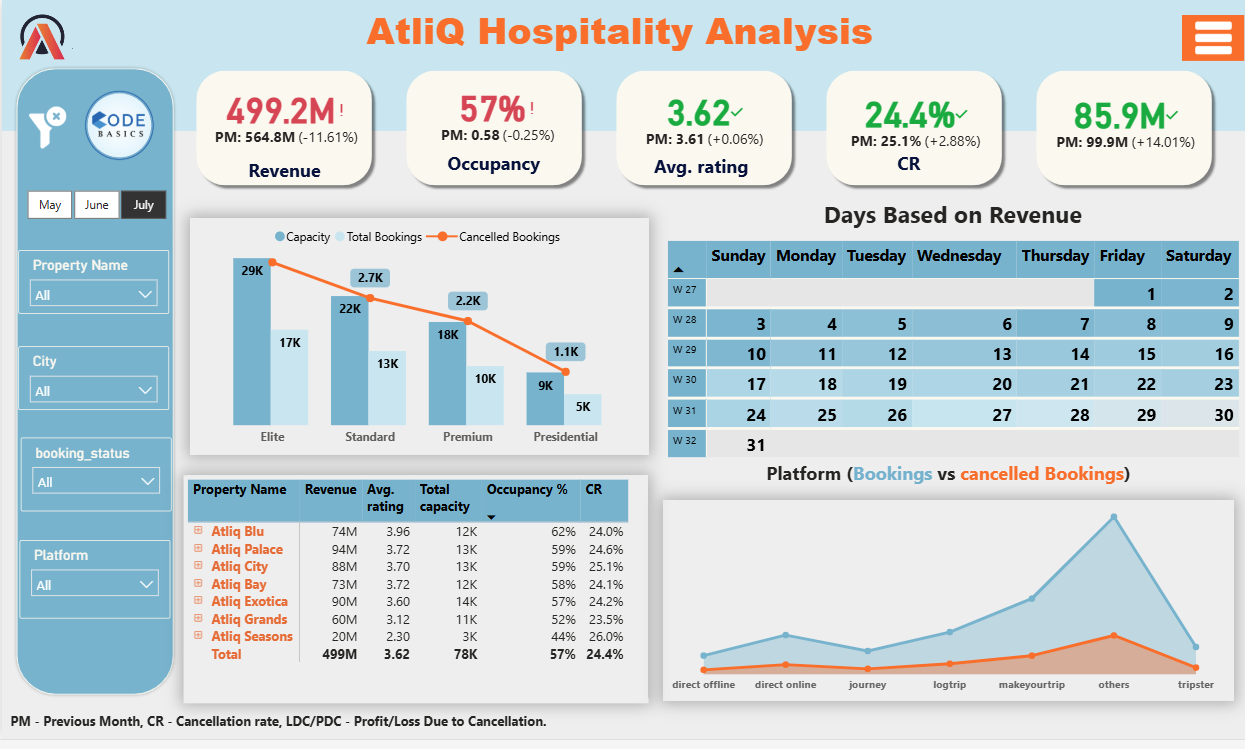

What the dashboard file says about the page in this screenshot:
{"tool":"powerbi","page":{"name":"Monthly","canvas":[1280,760],"ordinal":1},"visuals":[{"type":"group","id":"g1","title":"visuals","box":[0,0,1280,760.7],"z":0},{"type":"shape","title":"blue menu","box":[999.8,0,280.2,759.3],"z":0,"group":"g2"},{"type":"actionButton","title":"Monthly analysis","box":[1019,217.5,241.7,39.8],"z":0,"group":"g3"},{"type":"textbox","box":[0,727.8,1063.8,32.8],"z":0,"group":"g1"},{"type":"shape","title":"organge transprent","box":[0,0,999.8,759.3],"z":1000,"group":"g2"},{"type":"shape","box":[0,0,1280,134.4],"z":1000,"group":"g1"},{"type":"actionButton","title":"Overall analysis","box":[1021,83.3,242.4,39.8],"z":1000,"group":"g3"},{"type":"image","box":[20.1,101.8,52.8,59.1],"z":1000},{"type":"group","id":"g2","title":"Navig. menu","box":[0,0,1280,759.3],"z":2000},{"type":"image","title":"arrow","box":[956.2,3.8,68.2,66.3],"z":2000,"group":"g2"},{"type":"shape","box":[840.8,65.9,194.5,131.9],"z":2000,"group":"g1"},{"type":"actionButton","title":"Monthly analysis","box":[1021,147.7,242.4,39.8],"z":2000,"group":"g3"},{"type":"textbox","title":"page navg","box":[1011.1,11.4,255.6,49.2],"z":3000,"group":"g2"},{"type":"shape","box":[624.8,65.9,194.5,131.9],"z":3000,"group":"g1"},{"type":"shape","box":[192.9,65.9,194.5,131.9],"z":4000,"group":"g1"},{"type":"group","id":"g3","title":"Navg. buttons","box":[1019,83.3,245.2,173.8],"z":4000,"group":"g2"},{"type":"shape","box":[408.9,65.9,194.5,131.9],"z":5000,"group":"g1"},{"type":"shape","box":[11.3,66.6,168.4,650.9],"z":6000,"group":"g1"},{"type":"shape","box":[1056.7,65.9,194.5,131.9],"z":7000,"group":"g1"},{"type":"pivotTable","fields":{"Rows":["dim_date.week no"],"Values":["Sum(dim_date.DAY)"],"Columns":["Week_day.Weekday"]},"box":[679.8,242.5,598.2,245],"z":8000,"group":"g1"},{"type":"slicer","fields":{"Values":["dim_date.mmm yy.Variation.Date Hierarchy.Month"]},"box":[0,189.6,192.9,42.9],"z":9000,"group":"g1"},{"type":"kpi","title":"Revenue","fields":{"Indicator":["resource_measures.revenue"],"TrendLine":["dim_date.date.Variation.Date Hierarchy.Month"],"Goal":["resource_measures.revenue LM"]},"box":[204.4,92.3,176.4,62.6],"z":10000,"group":"g1"},{"type":"kpi","fields":{"Indicator":["resource_measures.Occupancy %"],"TrendLine":["dim_date.date.Variation.Date Hierarchy.Month"],"Goal":["resource_measures.Occupancy % LM"]},"box":[423.7,89,171.5,65.9],"z":11000,"group":"g1"},{"type":"kpi","fields":{"Goal":["resource_measures.cancellation rate LM"],"TrendLine":["dim_date.date.Variation.Date Hierarchy.Month"],"Indicator":["resource_measures.CR"]},"box":[852.3,90.7,174.8,72.5],"z":12000,"group":"g1"},{"type":"kpi","fields":{"Indicator":["resource_measures.LDC"],"Goal":["resource_measures.LDC LM"],"TrendLine":["dim_date.date.Variation.Date Hierarchy.Month"]},"box":[1068.3,89,174.8,80.8],"z":13000,"group":"g1"},{"type":"kpi","title":"Avg. rating ","fields":{"Indicator":["resource_measures.Avg. rating"],"TrendLine":["dim_date.date.Variation.Date Hierarchy.Month"],"Goal":["resource_measures.avg.rating LM"]},"box":[631.4,92.3,183,65.9],"z":14000,"group":"g1"},{"type":"textbox","box":[1083.1,153.3,145.1,46.2],"z":15000,"group":"g1"},{"type":"textbox","box":[860.6,150,145.1,44.5],"z":16000,"group":"g1"},{"type":"textbox","box":[646.2,153.3,145.1,44.5],"z":17000,"group":"g1"},{"type":"textbox","box":[433.6,150,145.1,44.5],"z":18000,"group":"g1"},{"type":"textbox","box":[217.6,156.6,146.7,37.9],"z":19000,"group":"g1"},{"type":"textbox","box":[1.9,0,1278.1,65.6],"z":20000,"group":"g1"},{"type":"image","title":"three dot menu","box":[1213.7,15.1,64.4,47.3],"z":21000,"group":"g1"},{"type":"slicer","fields":{"Values":["dim_hotels.property_name"]},"box":[16.5,257.2,155,65.9],"z":22000,"group":"g1"},{"type":"slicer","fields":{"Values":["dim_hotels.city"]},"box":[16.5,356.1,155,65.9],"z":23000,"group":"g1"},{"type":"slicer","fields":{"Values":["fact_bookings.booking_status"]},"box":[19.8,450.1,155,75.8],"z":24000,"group":"g1"},{"type":"slicer","fields":{"Values":["fact_bookings.booking_platform"]},"box":[18.1,555.6,155,80.8],"z":25000,"group":"g1"},{"type":"image","title":"atliq","box":[0,1.3,77.9,74.1],"z":26000,"group":"g1"},{"type":"image","title":"codebasics","box":[70.4,86.7,100.5,85.5],"z":27000,"group":"g1"},{"type":"lineClusteredColumnComboChart","title":"Capacity vs Bookings vs Cancelled Bookings","fields":{"Category":["dim_rooms.room_class"],"Y":["resource_measures.Total capacity","resource_measures.Total sucessful bookings"],"Y2":["resource_measures.Total cancelled bookings"]},"box":[192.3,223.7,472.5,243.8],"z":28000,"group":"g1"},{"type":"areaChart","fields":{"Category":["fact_bookings.booking_platform"],"Y":["resource_measures.Total bookings","resource_measures.Total cancelled bookings"]},"box":[679.8,514,586.8,207.3],"z":29000,"group":"g1"},{"type":"pivotTable","fields":{"Rows":["dim_hotels.property_name","dim_hotels.city"],"Values":["resource_measures.revenue","resource_measures.Avg. rating","resource_measures.Total capacity","resource_measures.Occupancy %","resource_measures.CR"]},"box":[186.3,488,478.1,234.1],"z":30000,"group":"g1"},{"type":"textbox","box":[679.2,199.5,598.4,49.5],"z":31000,"group":"g1"},{"type":"textbox","box":[757.7,468.7,432.3,45.2],"z":31000}]}

Visuals, with their boxes in screenshot pixels (x1, y1, x2, y2), scaled from the page's 1280x760 canvas onto the 1245x749 screenshot:
"visuals" group: [0, 0, 1244, 748]
"blue menu" shape: [972, 0, 1244, 748]
"Monthly analysis" actionButton: [991, 214, 1226, 254]
textbox: [0, 717, 1035, 748]
"organge transprent" shape: [0, 0, 972, 748]
shape: [0, 0, 1244, 132]
"Overall analysis" actionButton: [993, 82, 1229, 121]
image: [20, 100, 71, 159]
"Navig. menu" group: [0, 0, 1244, 748]
"arrow" image: [930, 4, 996, 69]
shape: [818, 65, 1007, 195]
"Monthly analysis" actionButton: [993, 146, 1229, 185]
"page navg" textbox: [983, 11, 1232, 60]
shape: [608, 65, 797, 195]
shape: [188, 65, 377, 195]
"Navg. buttons" group: [991, 82, 1230, 253]
shape: [398, 65, 587, 195]
shape: [11, 66, 175, 707]
shape: [1028, 65, 1217, 195]
pivotTable - dim_date.week no x Sum(dim_date.DAY): [661, 239, 1243, 480]
slicer - dim_date.mmm yy.Variation.Date Hierarchy.Month: [0, 187, 188, 229]
"Revenue" kpi: [199, 91, 370, 153]
kpi - resource_measures.Occupancy % x dim_date.date.Variation.Date Hierarchy.Month: [412, 88, 579, 153]
kpi - resource_measures.cancellation rate LM x dim_date.date.Variation.Date Hierarchy.Month: [829, 89, 999, 161]
kpi - resource_measures.LDC x resource_measures.LDC LM: [1039, 88, 1209, 167]
"Avg. rating " kpi: [614, 91, 792, 156]
textbox: [1053, 151, 1195, 197]
textbox: [837, 148, 978, 192]
textbox: [629, 151, 770, 195]
textbox: [422, 148, 563, 192]
textbox: [212, 154, 354, 192]
textbox: [2, 0, 1244, 65]
"three dot menu" image: [1181, 15, 1243, 61]
slicer - dim_hotels.property_name: [16, 253, 167, 318]
slicer - dim_hotels.city: [16, 351, 167, 416]
slicer - fact_bookings.booking_status: [19, 444, 170, 518]
slicer - fact_bookings.booking_platform: [18, 548, 168, 627]
"atliq" image: [0, 1, 76, 74]
"codebasics" image: [68, 85, 166, 170]
"Capacity vs Bookings vs Cancelled Bookings" lineClusteredColumnComboChart: [187, 220, 647, 461]
areaChart - fact_bookings.booking_platform x resource_measures.Total bookings: [661, 507, 1232, 711]
pivotTable - dim_hotels.property_name x dim_hotels.city: [181, 481, 646, 712]
textbox: [661, 197, 1243, 245]
textbox: [737, 462, 1157, 506]
